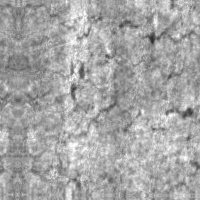crazing: (19, 45, 195, 124), (21, 2, 199, 43), (99, 152, 199, 192), (140, 24, 199, 75)
